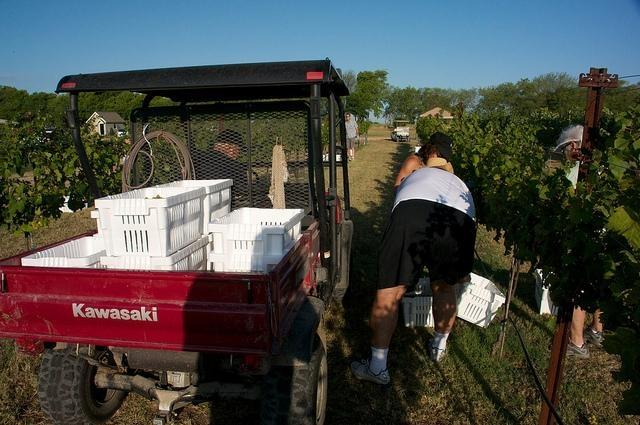truck: (0, 59, 357, 420)
